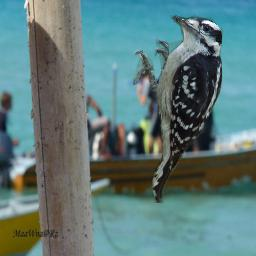Woodpecker: (133, 13, 234, 203)
